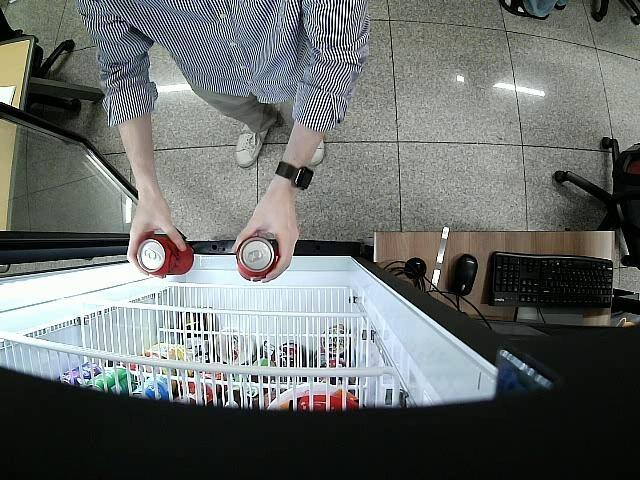11_cocaColaZero: (132, 236, 196, 276), (237, 234, 280, 283)
